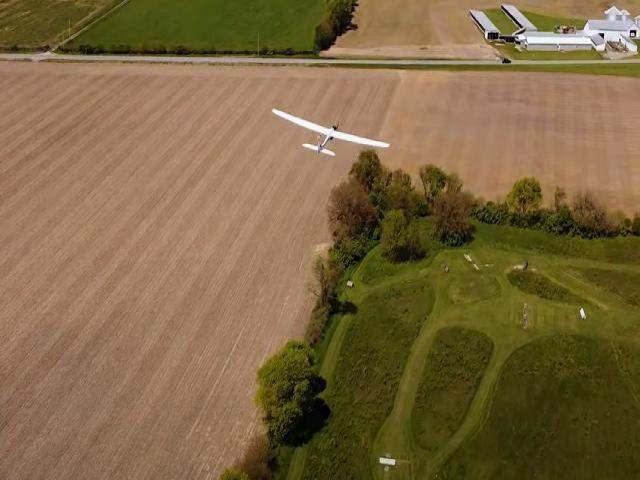iha: (274, 105, 389, 156)
